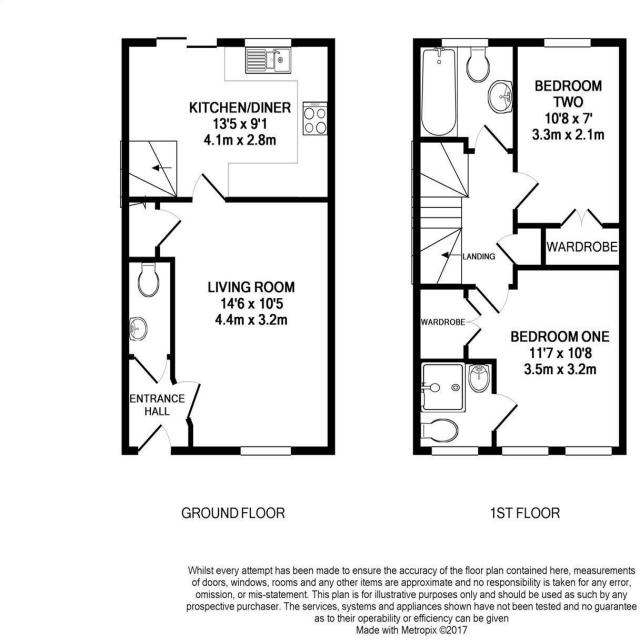DOOR: (169, 378, 205, 424), (135, 420, 174, 457), (471, 121, 510, 156), (490, 391, 521, 434), (132, 352, 169, 388), (473, 282, 511, 317), (154, 208, 185, 250), (511, 170, 542, 212), (190, 170, 227, 205), (491, 231, 518, 266)
ROOM: (154, 169, 336, 457), (120, 36, 338, 204), (462, 264, 628, 457), (511, 37, 628, 229)
WINDOW: (239, 444, 293, 457), (500, 444, 550, 458), (440, 36, 490, 50), (564, 444, 613, 458), (430, 444, 480, 457), (543, 36, 593, 49), (244, 36, 293, 49)
